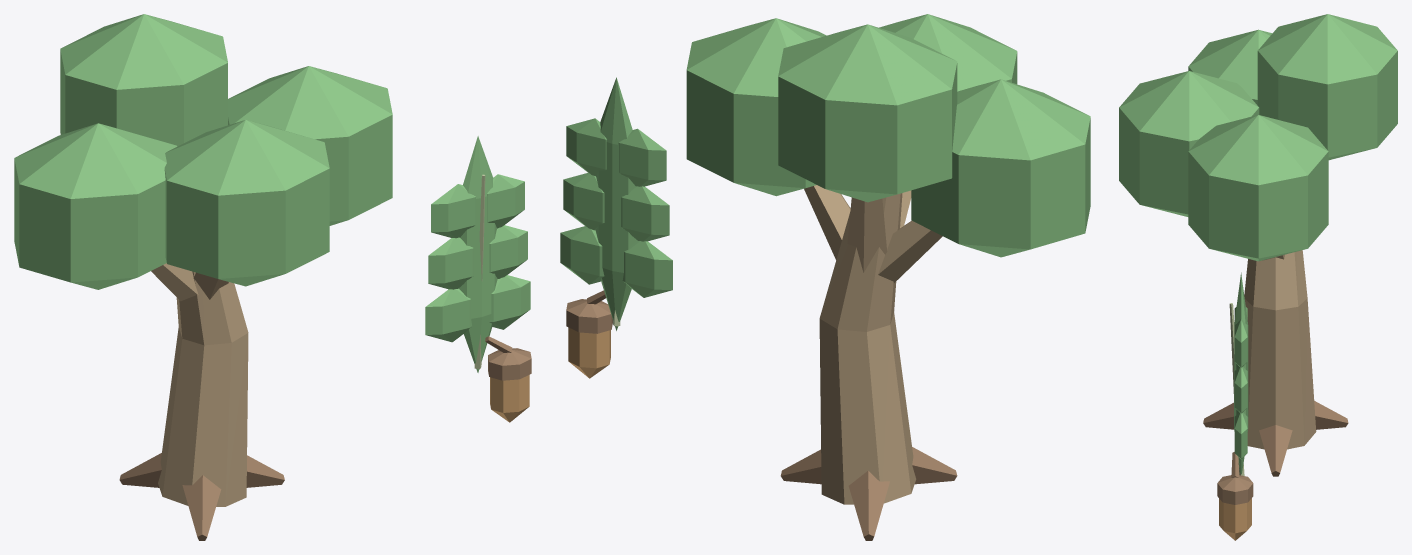
The model's file is skane-oak-observation.91268260d500.glb.
The picture shows the model from 3 angles, left to right: view 1: azimuth 30°, elevation 25°; view 2: azimuth 150°, elevation 25°; view 3: azimuth 270°, elevation 25°; orthographic projection. The views are drawn at different scales.
Visible parts, largest first — view 1: skane-oak-observation; view 2: skane-oak-observation; view 3: skane-oak-observation.
Boxes of the visible parts, x1,y1,x2,y2 form: skane-oak-observation: (14, 14, 531, 540); skane-oak-observation: (560, 14, 1090, 540); skane-oak-observation: (1119, 14, 1397, 540).
Bounding box in the file's own units: 1 × 0.9034 × 0.5475.
